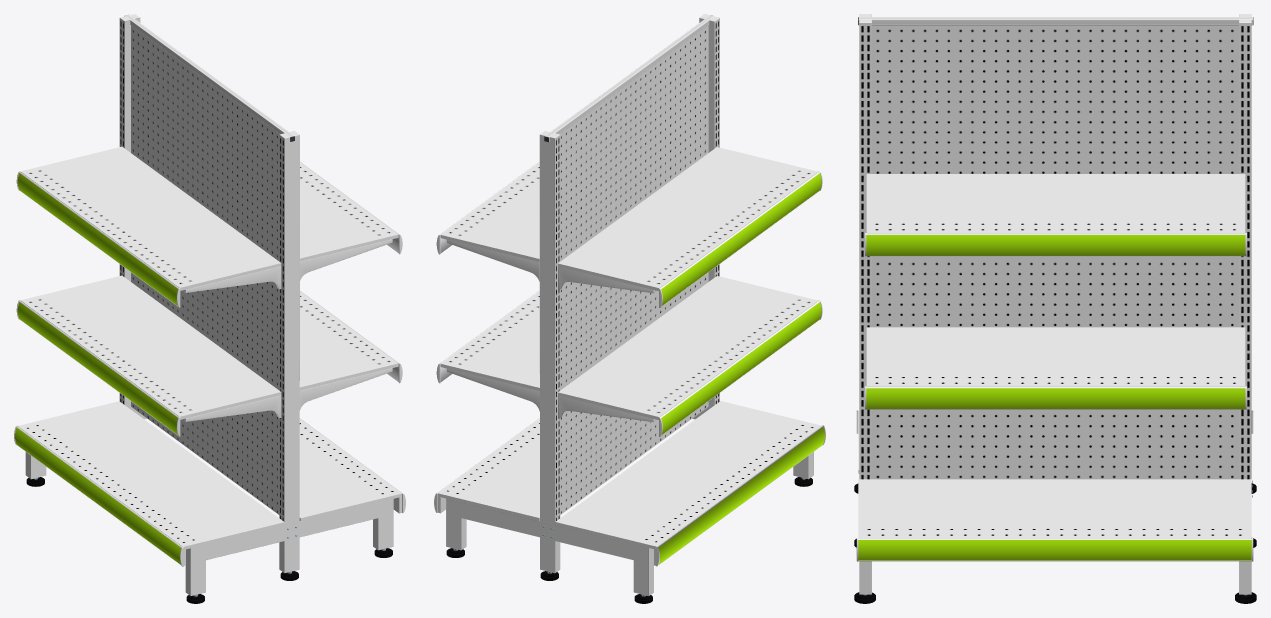
File: 3Shelves.fbx
The picture shows the model from 3 angles, left to right: view 1: azimuth 30°, elevation 25°; view 2: azimuth 150°, elevation 25°; view 3: azimuth 270°, elevation 25°; orthographic projection. The views are drawn at different scales.
Visible parts, largest first — view 1: grocery_shelf_base.002, grocery_shelves001.002, grocery_shelves002.002; view 2: grocery_shelf_base.002, grocery_shelves002.002, grocery_shelves001.002; view 3: grocery_shelf_base.002, grocery_shelves001.002, grocery_shelves002.002.
Boxes of the visible parts, x1=… form: grocery_shelf_base.002: x1=14, y1=14, x2=405, y2=603; grocery_shelves001.002: x1=16, y1=275, x2=402, y2=436; grocery_shelves002.002: x1=16, y1=146, x2=402, y2=307; grocery_shelf_base.002: x1=434, y1=14, x2=825, y2=603; grocery_shelves002.002: x1=436, y1=147, x2=822, y2=307; grocery_shelves001.002: x1=436, y1=276, x2=822, y2=436; grocery_shelf_base.002: x1=854, y1=14, x2=1256, y2=603; grocery_shelves001.002: x1=865, y1=327, x2=1246, y2=409; grocery_shelves002.002: x1=865, y1=174, x2=1246, y2=256.
Bounding box in the file's own units: 73.26 × 137 × 95.14.
